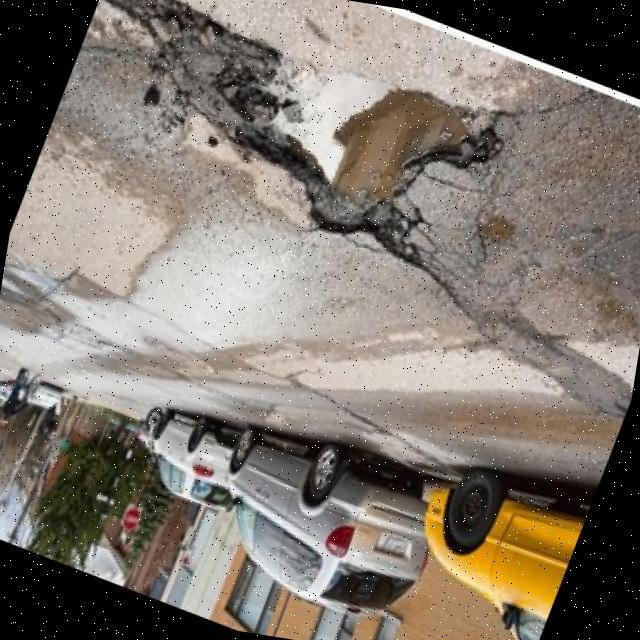Pothole: (106, 0, 504, 273)
